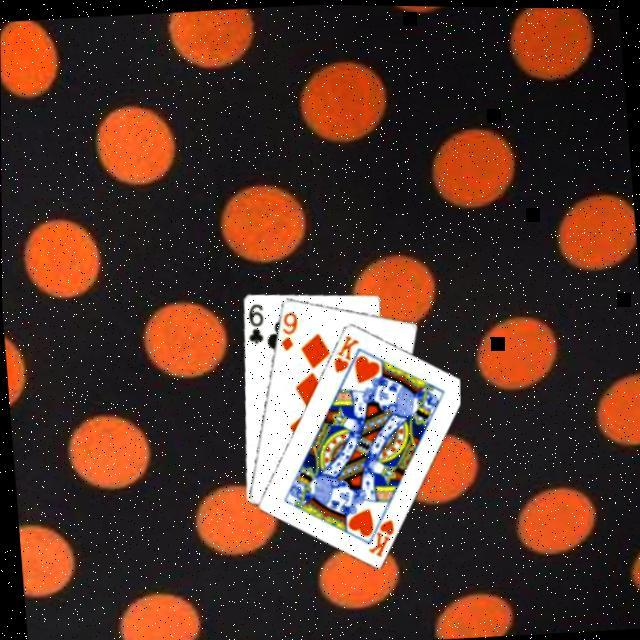6C: (240, 301, 266, 347)
9D: (273, 309, 299, 354)
KH: (360, 516, 396, 560), (326, 332, 360, 376)
